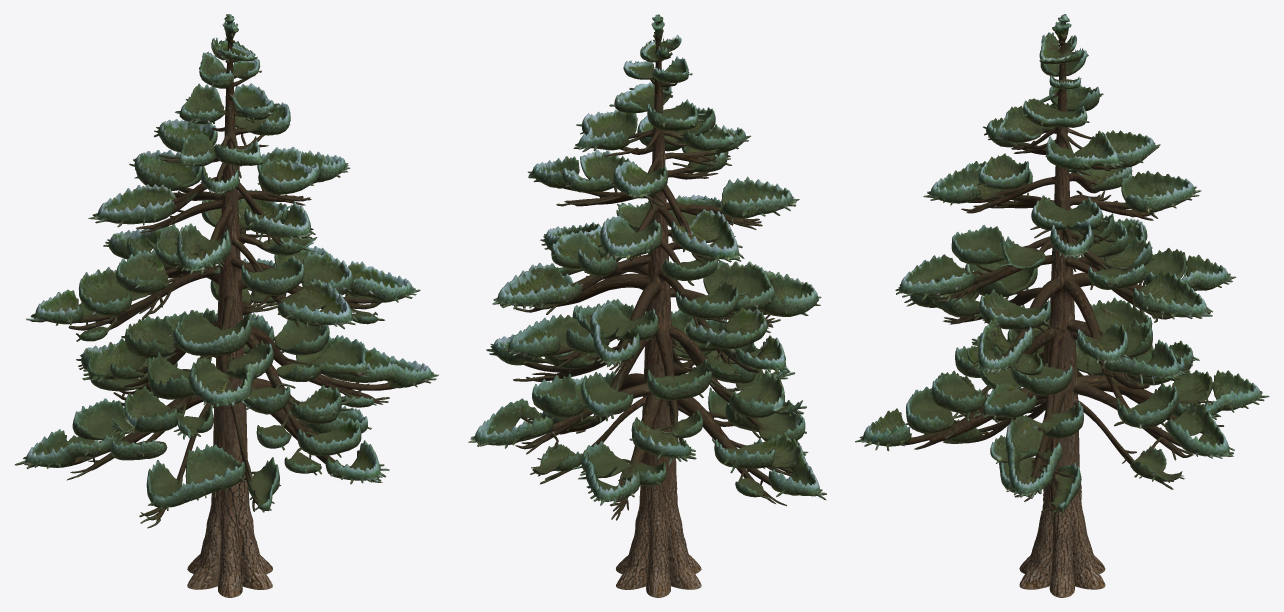
File: pine.glb
The picture shows the model from 3 angles, left to right: view 1: azimuth 30°, elevation 25°; view 2: azimuth 150°, elevation 25°; view 3: azimuth 270°, elevation 25°; orthographic projection.
Parts seen in each view (by area): view 1: tripo_node_e997dcca-53fe-4201-807e-15dc313148c9; view 2: tripo_node_e997dcca-53fe-4201-807e-15dc313148c9; view 3: tripo_node_e997dcca-53fe-4201-807e-15dc313148c9.
Boxes of the visible parts, x1,y1,x2,y2 form: tripo_node_e997dcca-53fe-4201-807e-15dc313148c9: (15,14,438,597); tripo_node_e997dcca-53fe-4201-807e-15dc313148c9: (468,14,826,597); tripo_node_e997dcca-53fe-4201-807e-15dc313148c9: (855,14,1269,597).
Bounding box in the file's own units: 0.6828 × 0.9759 × 0.6447.
Materials: 1 (1 with a texture image).
